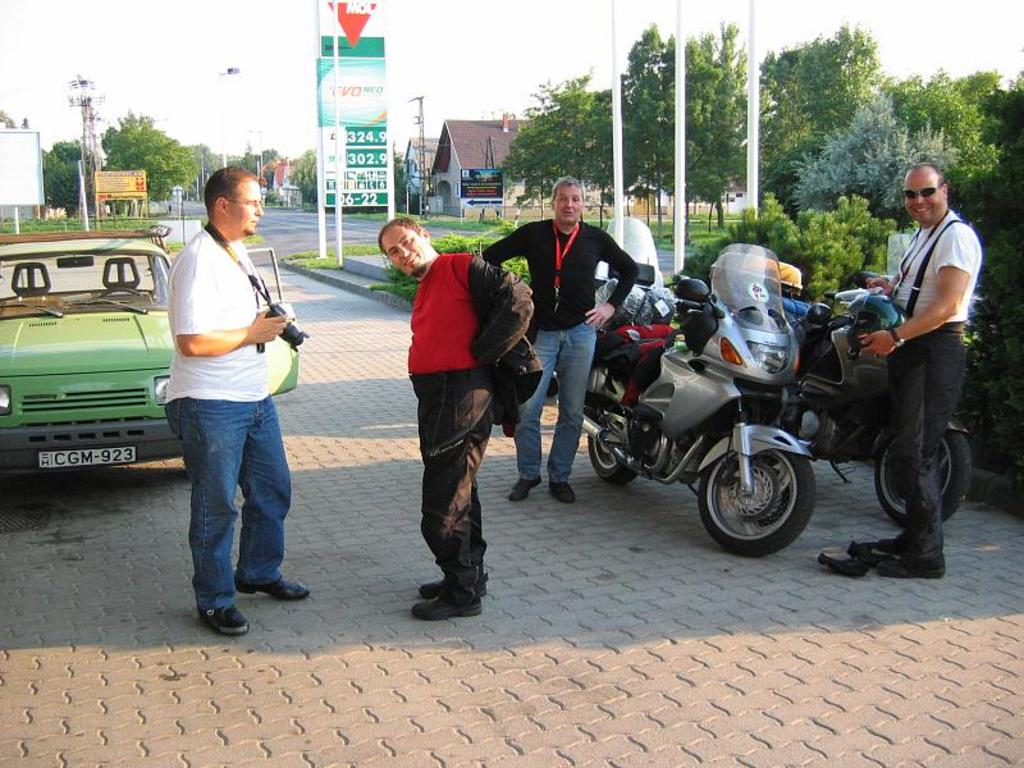Motorcycle: (773, 298, 972, 522)
